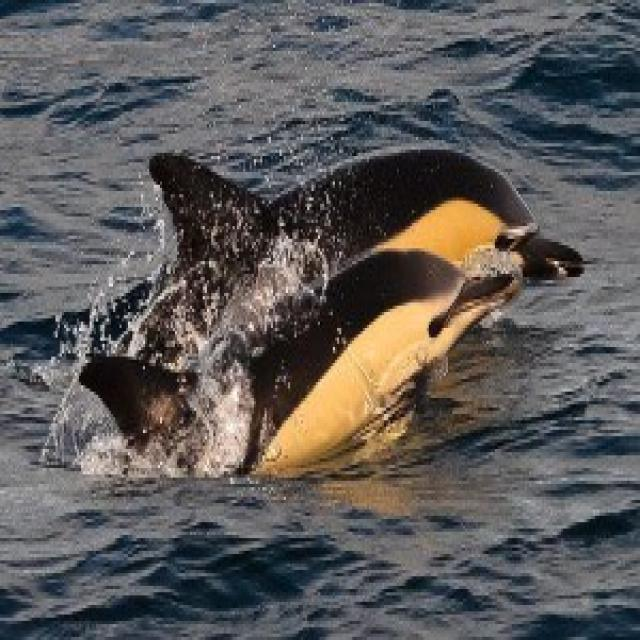Dolphin: (74, 240, 522, 531), (126, 145, 591, 278)
